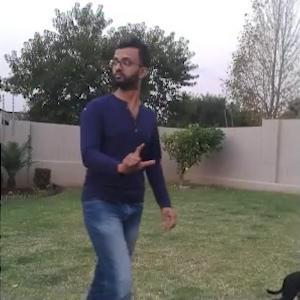land_hand: (113, 134, 159, 175)
